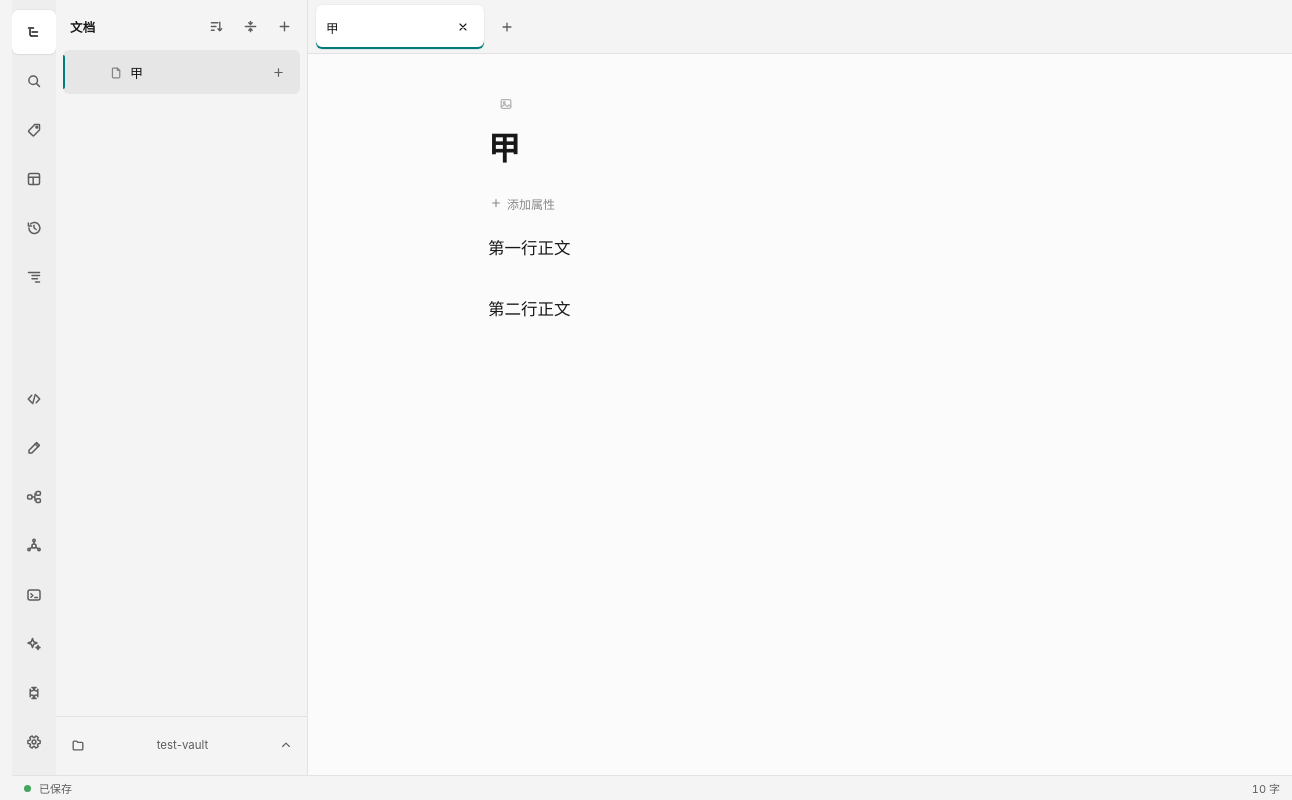
Test: 正文里的右键菜单（§4.10） › 「文本格式」里五种行内格式都在，右边标着当前键位
This screenshot has width=1292, height=800.
Step 1. Right-click the text box with class "cm-line" showing "第一行正文" → (529, 248), box top-left (488, 238), bottom-right (570, 258)
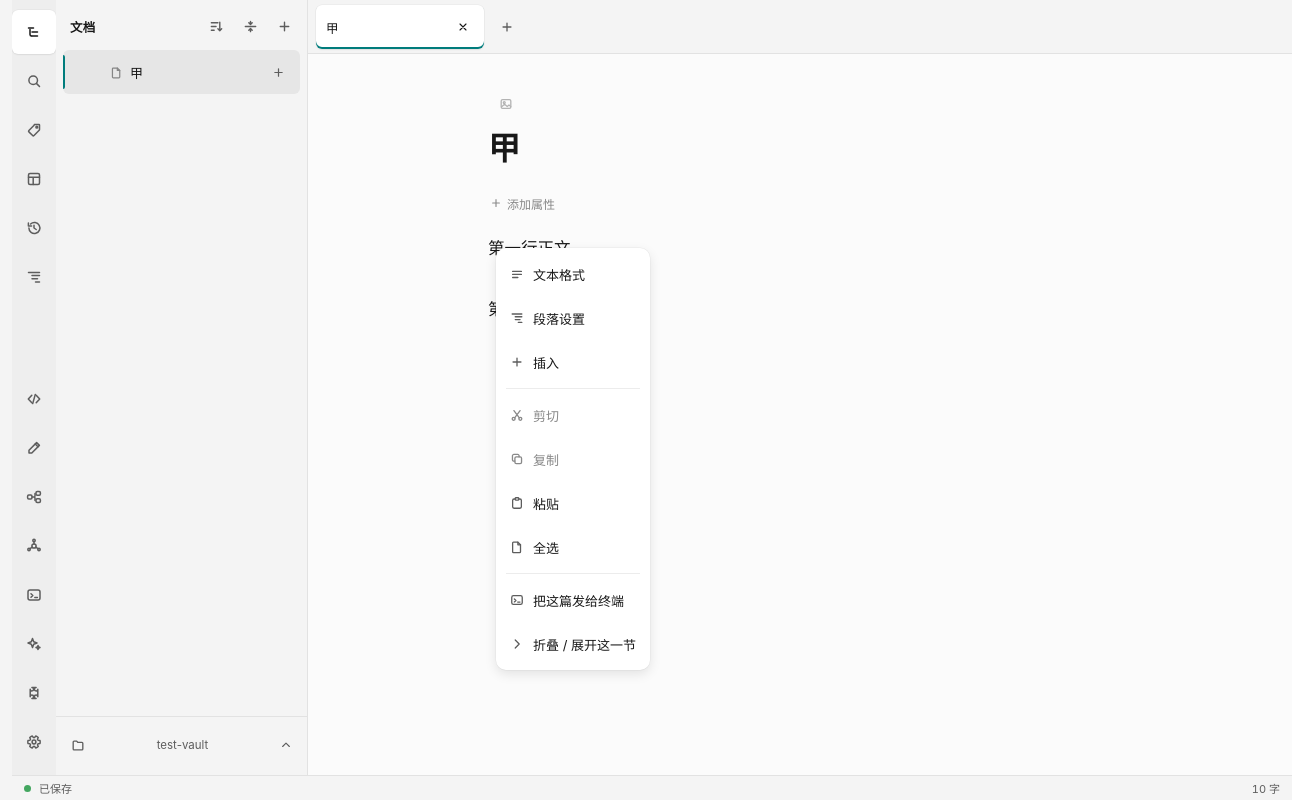
Step 2. Click the button "文本格式" → (573, 274), box top-left (500, 252), bottom-right (646, 296)
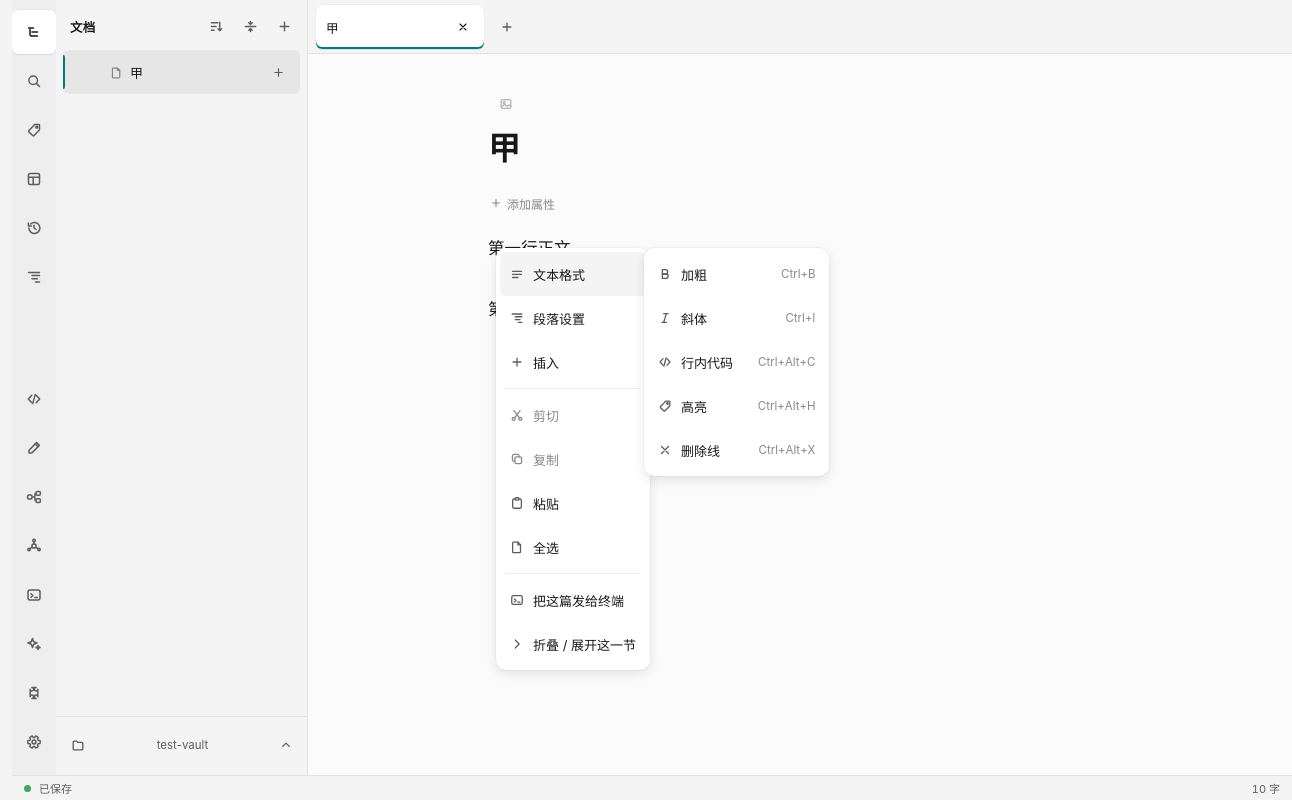
Check: the list with class "ctx-sub" is shown, box top-left (644, 248), bottom-right (829, 476)
Check: the text with class "ctx-key" shows "B", box top-left (781, 267), bottom-right (816, 281)
